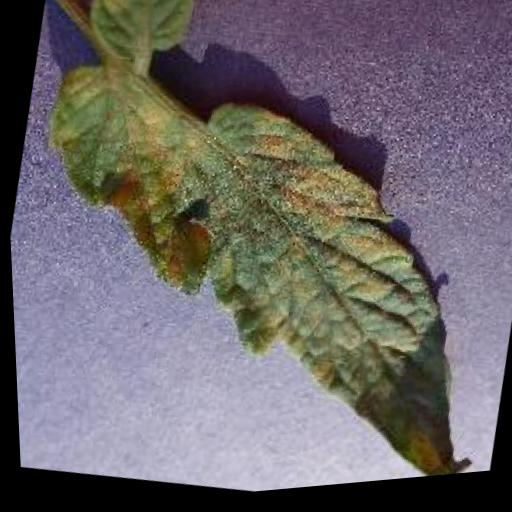Leaf Mold: (2, 30, 512, 512), (81, 0, 205, 75)
